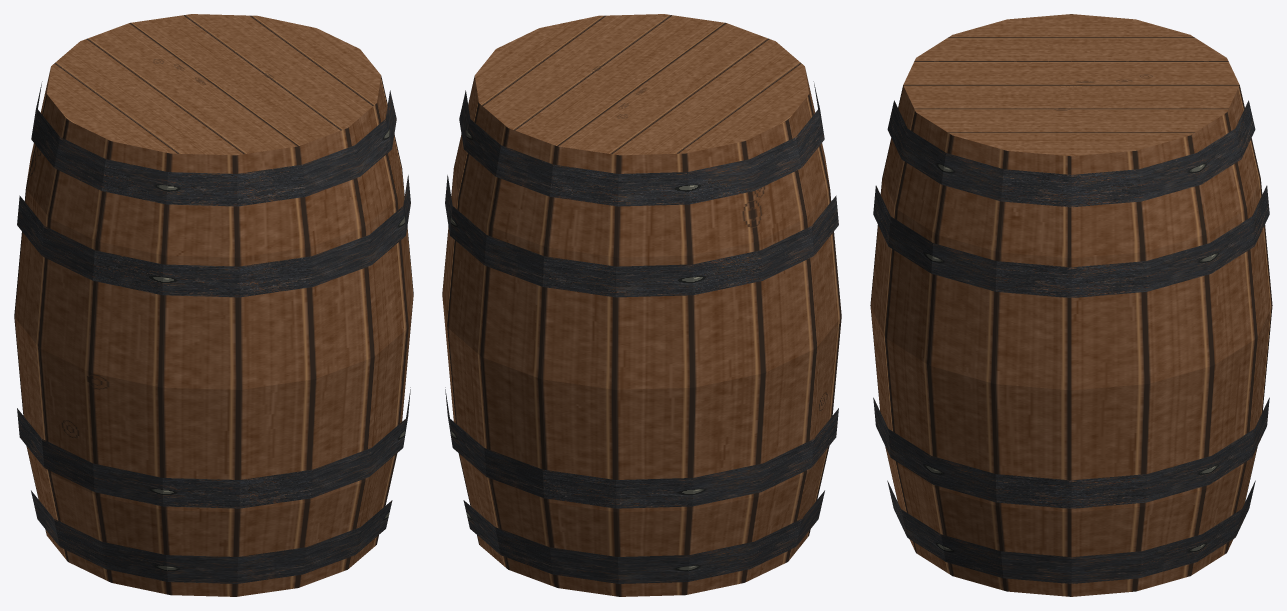
Rendered from wooden_barrel.glb.
3 views of the same model, side by side, from view 1: azimuth 30°, elevation 25°; view 2: azimuth 150°, elevation 25°; view 3: azimuth 270°, elevation 25° (orthographic).
Parts seen in each view (by area): view 1: wooden_barrel_ground_pivot_y_up; view 2: wooden_barrel_ground_pivot_y_up; view 3: wooden_barrel_ground_pivot_y_up.
Boxes of the visible parts, box(x1,y1,x2,y2) form: wooden_barrel_ground_pivot_y_up: box(14, 14, 413, 596); wooden_barrel_ground_pivot_y_up: box(442, 14, 841, 596); wooden_barrel_ground_pivot_y_up: box(870, 14, 1272, 596).
Bounding box in the file's own units: 0.86 × 1.04 × 0.86.
Materials: 3 (3 with a texture image).
